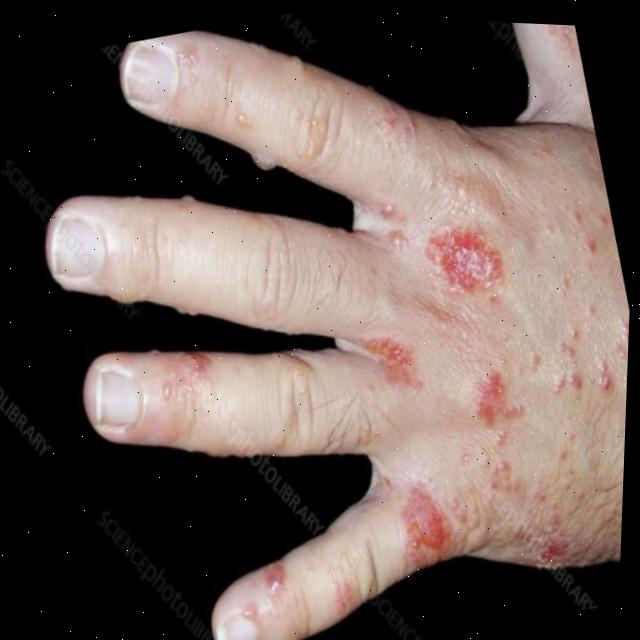Eczema: (283, 92, 637, 640)
